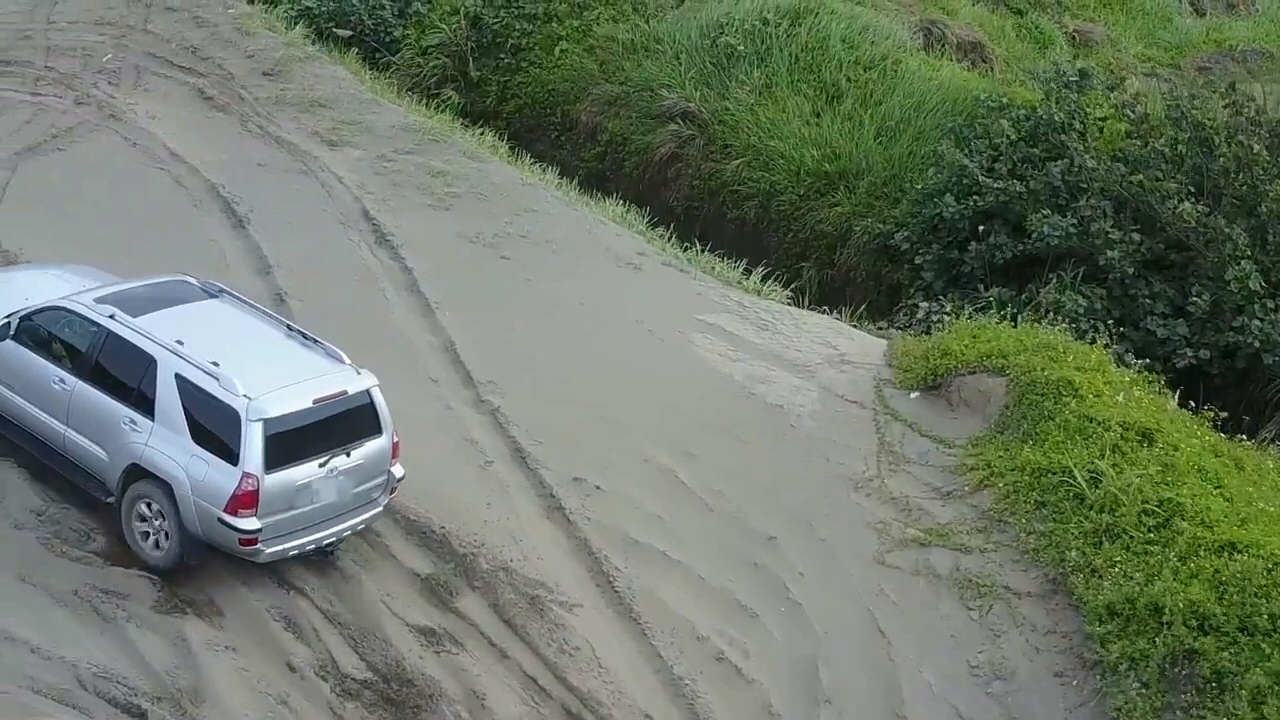araba: (1, 259, 404, 573)
